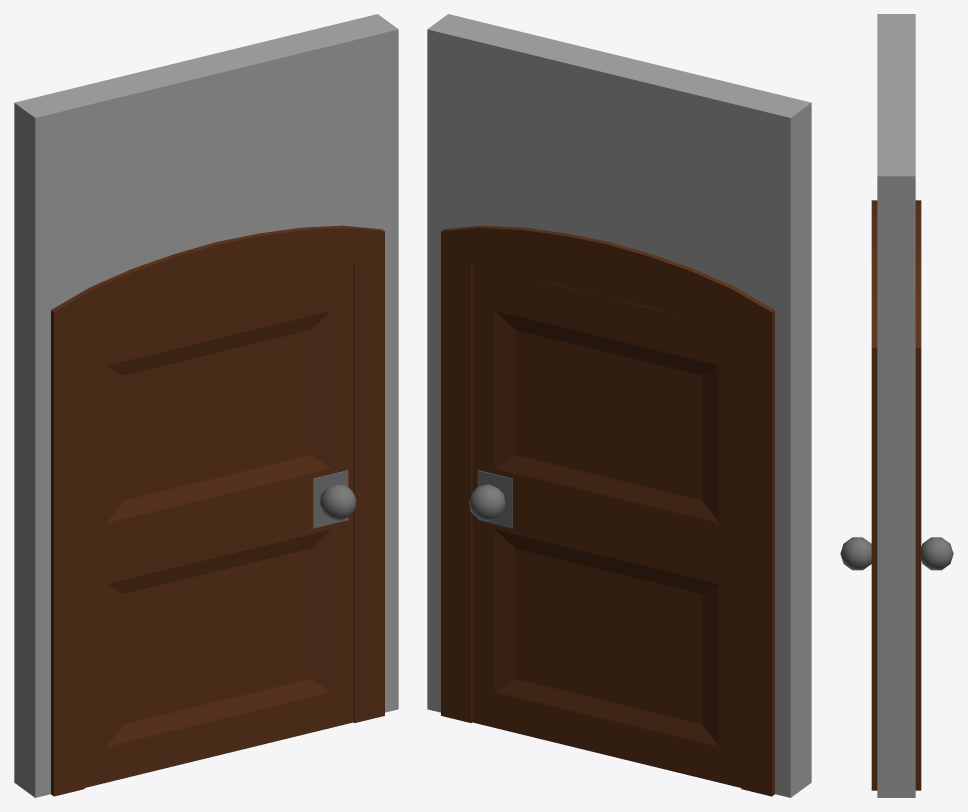
File: wallDoor.fbx
3 renders of one model, left to right at view 1: azimuth 30°, elevation 25°; view 2: azimuth 150°, elevation 25°; view 3: azimuth 270°, elevation 25°, orthographic. The views are drawn at different scales.
Parts seen in each view (by area): view 1: WallwithDoorFrame; view 2: WallwithDoorFrame; view 3: WallwithDoorFrame.
Part boxes in pixels (x1=…): WallwithDoorFrame: x1=14, y1=14, x2=398, y2=797; WallwithDoorFrame: x1=427, y1=14, x2=811, y2=797; WallwithDoorFrame: x1=840, y1=14, x2=953, y2=797.
Size of the model in its own units: 200 by 59.09 by 358.
